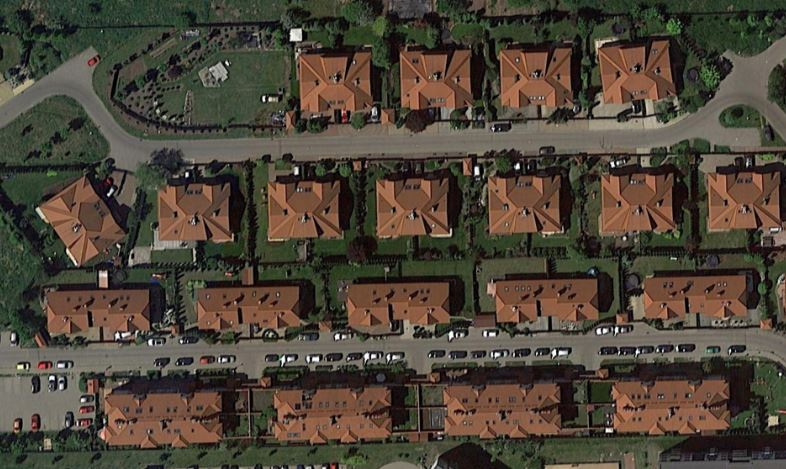block of flats: (99, 385, 226, 449), (266, 381, 393, 445), (436, 379, 563, 443), (605, 372, 732, 436)
terrace house: (32, 170, 130, 269), (595, 35, 678, 105), (641, 273, 755, 321), (490, 275, 604, 323), (344, 280, 458, 328), (190, 282, 304, 330), (39, 286, 153, 334), (295, 47, 376, 114), (395, 46, 476, 113), (494, 42, 575, 109), (156, 179, 238, 245), (263, 175, 345, 241), (372, 173, 454, 239), (484, 170, 566, 236), (596, 168, 678, 234), (704, 167, 786, 233)
